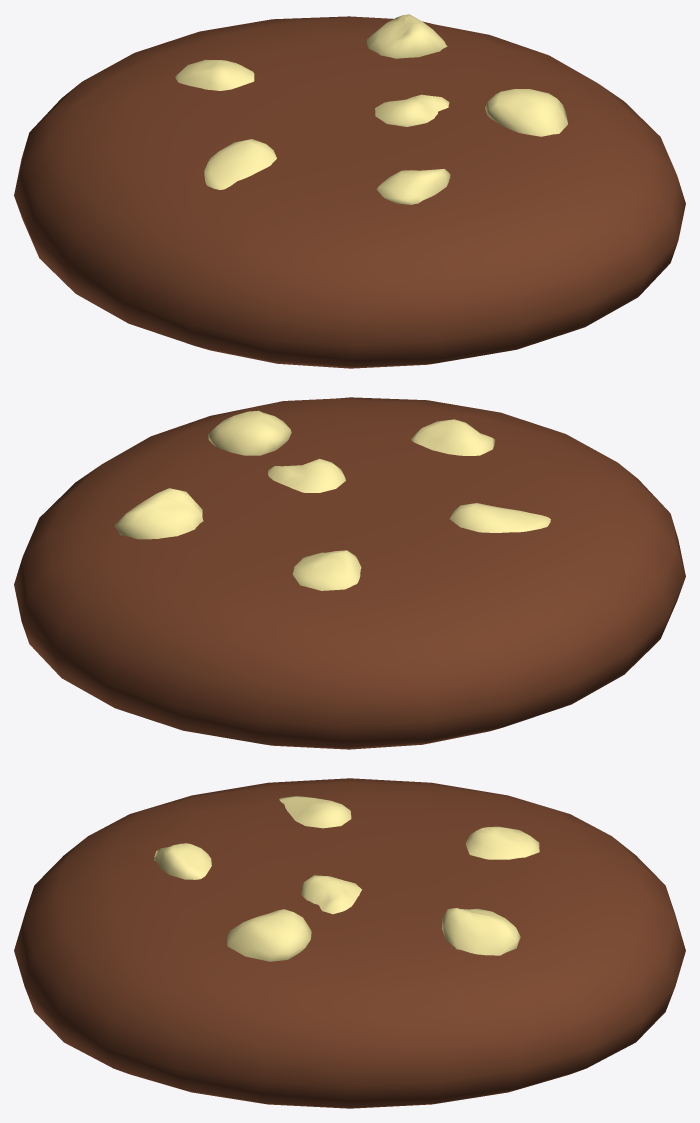
Rendered from CookieNut_03.fbx.
3 views of the same model, one above another, from view 1: azimuth 30°, elevation 25°; view 2: azimuth 150°, elevation 25°; view 3: azimuth 270°, elevation 25° (orthographic). The views are drawn at different scales.
Parts seen in each view (by area): view 1: CookieNut_03_LOD0; view 2: CookieNut_03_LOD0; view 3: CookieNut_03_LOD0.
Boxes of the visible parts, bbox=[...] form: CookieNut_03_LOD0: bbox=[14, 14, 685, 368]; CookieNut_03_LOD0: bbox=[14, 397, 685, 749]; CookieNut_03_LOD0: bbox=[14, 778, 685, 1108].
Size of what is drawn, in the model's own units: 468 by 119 by 493.
